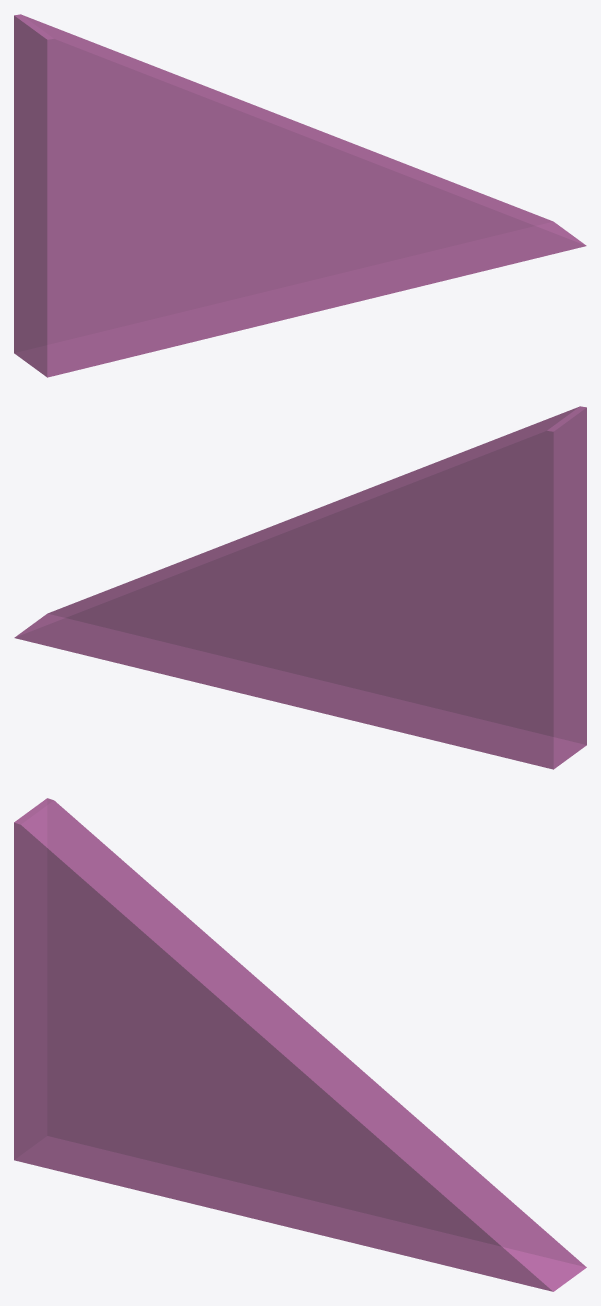
File: SM_Bld_Wall_Half_Angled_01_Collision.fbx
The picture shows the model from 3 angles, top to bottom: view 1: azimuth 30°, elevation 25°; view 2: azimuth 150°, elevation 25°; view 3: azimuth 330°, elevation 25°; orthographic projection.
Visible parts, largest first — view 1: SM_Bld_Wall_Half_Angled_01_Collision; view 2: SM_Bld_Wall_Half_Angled_01_Collision; view 3: SM_Bld_Wall_Half_Angled_01_Collision.
Boxes of the visible parts, x1,y1,x2,y2 form: SM_Bld_Wall_Half_Angled_01_Collision: [14, 14, 586, 377]; SM_Bld_Wall_Half_Angled_01_Collision: [14, 406, 586, 769]; SM_Bld_Wall_Half_Angled_01_Collision: [14, 798, 586, 1291].
Bounding box in the file's own units: 255 × 152 × 27.31.
